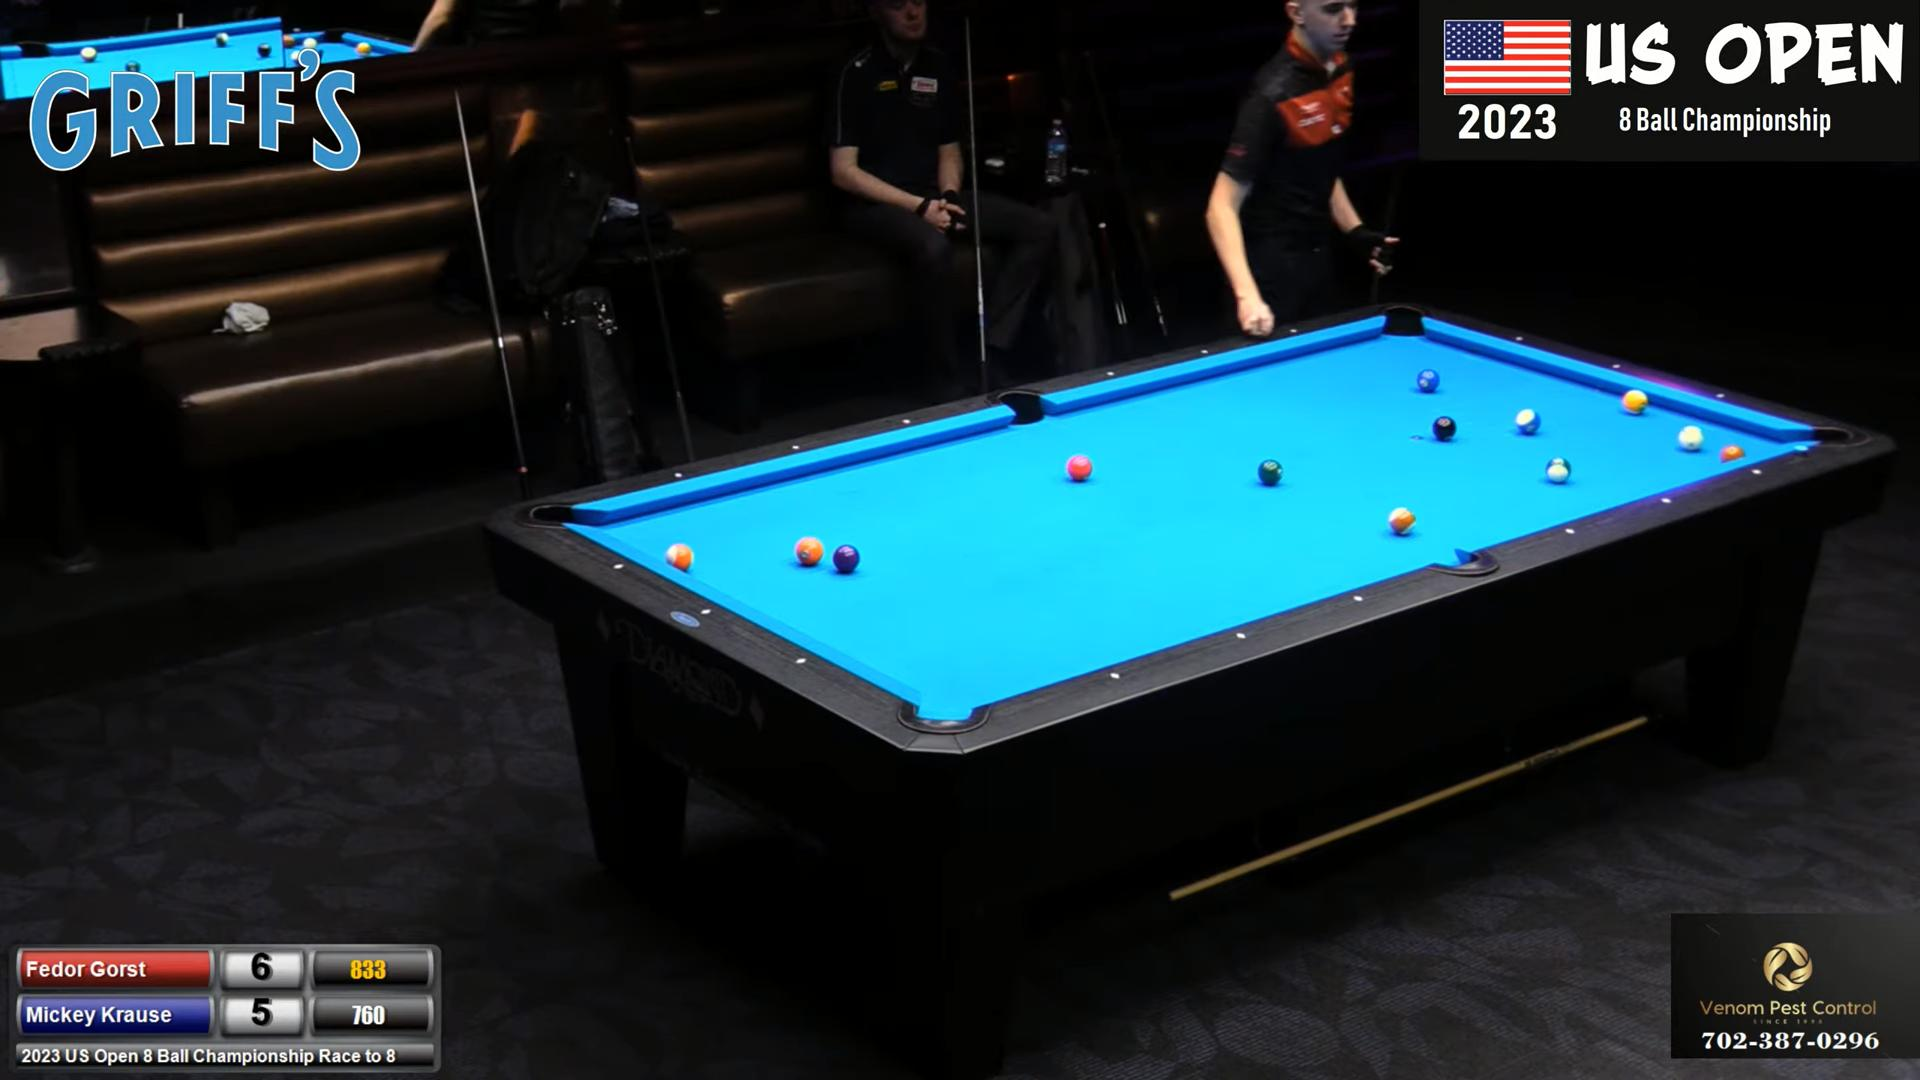Black: (1432, 417, 1456, 440)
Cue: (1677, 425, 1704, 450)
Dot: (667, 468, 690, 483), (785, 440, 807, 455), (895, 414, 918, 429), (1100, 367, 1122, 381), (1509, 331, 1531, 345), (1655, 493, 1677, 508), (1104, 669, 1126, 683), (790, 654, 812, 669), (1606, 359, 1627, 373), (1746, 464, 1767, 479), (608, 559, 629, 574), (1193, 345, 1216, 359), (1283, 324, 1305, 338), (1709, 389, 1731, 402), (1559, 525, 1581, 538), (1346, 592, 1369, 605), (1229, 629, 1251, 642), (695, 605, 716, 618)
Solid: (796, 538, 823, 566), (833, 545, 860, 571), (1257, 459, 1283, 484), (1067, 455, 1092, 480), (1416, 369, 1440, 392), (1720, 444, 1746, 463)
Striped: (1389, 506, 1418, 535), (666, 543, 694, 571), (1515, 409, 1542, 434), (1622, 389, 1647, 414), (1545, 458, 1571, 483)
